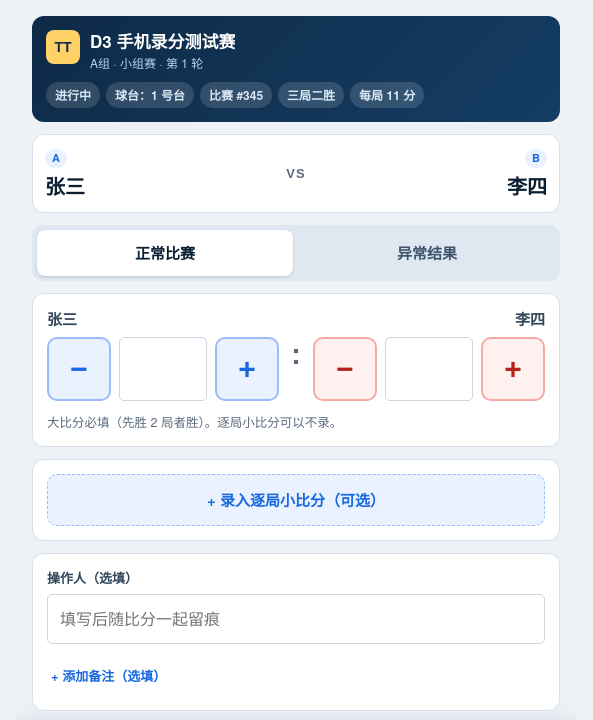
Scenario: 正常比分：只录大比分 › 不展开小比分时，payload 不携带 games，且提交后重新拉取真实 Match
Expected: the text "D3 手机录分测试赛" is shown, [90, 30, 236, 52]
In the number field named "张三 大比分": [163, 369] box [119, 337, 207, 401], type "2"
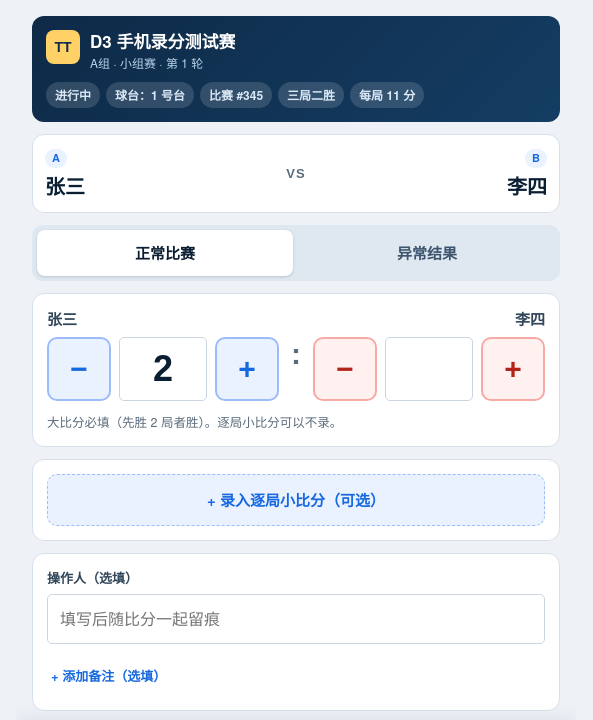
In the number field named "李四 大比分": [429, 369] box [385, 337, 473, 401], type "1"
(page scrolled)
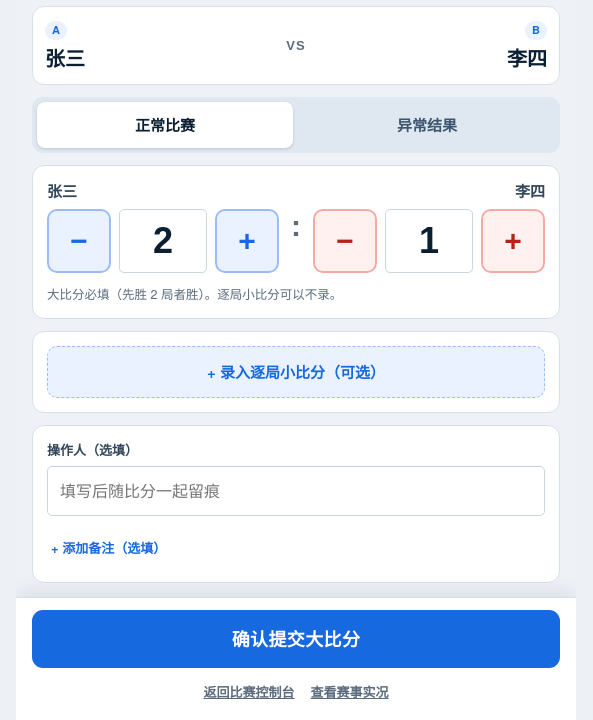
Click the button "确认提交大比分": [296, 639] box [32, 610, 560, 668]
(page scrolled)
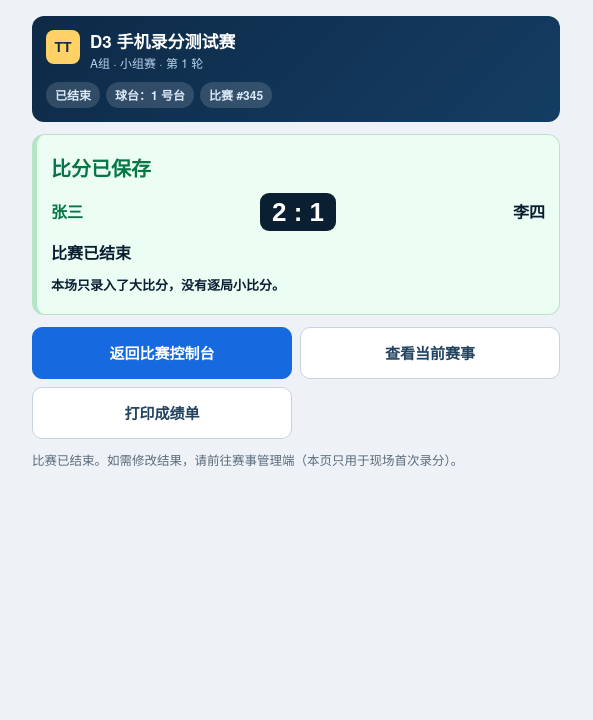
Expected: the text "比分已保存" is shown, [51, 153, 151, 182]
Expected: the text "比赛已结束" is shown, [51, 241, 131, 264]
Expected: the text "2 : 1" is shown, [260, 193, 336, 231]
